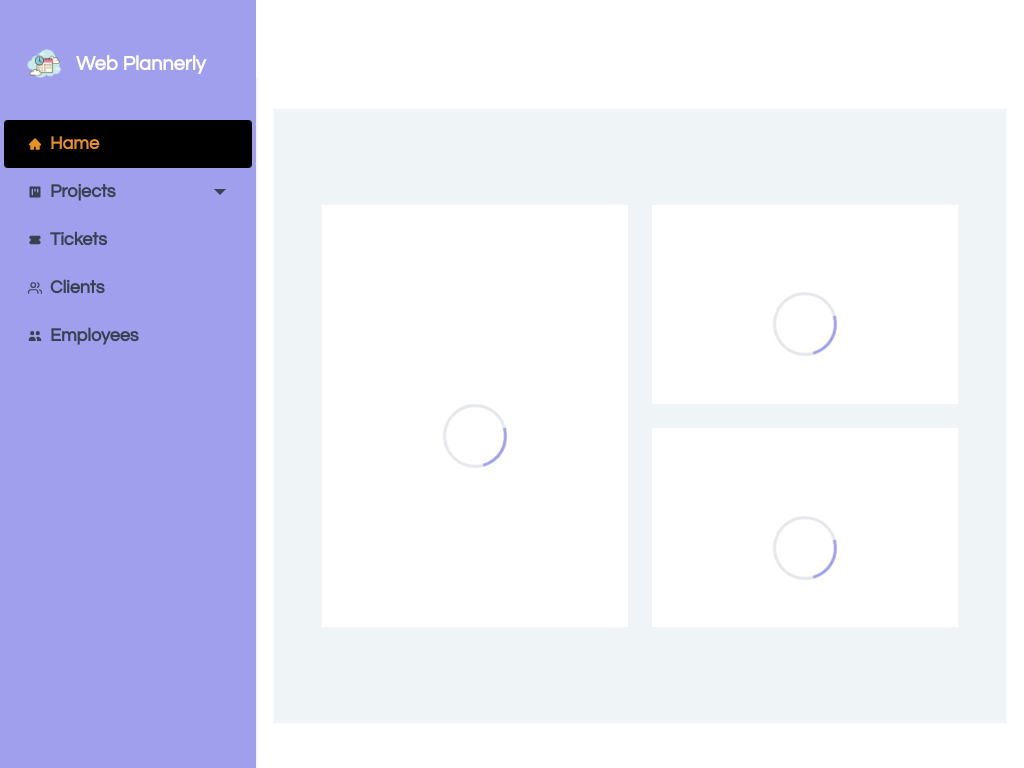
Navigation › should verify employee page with header Employees and url employees
What coordinates should you click on to do the following:
click the link "employees"
I would click on:
 (83, 336)
Its box is [28,326,138,345].
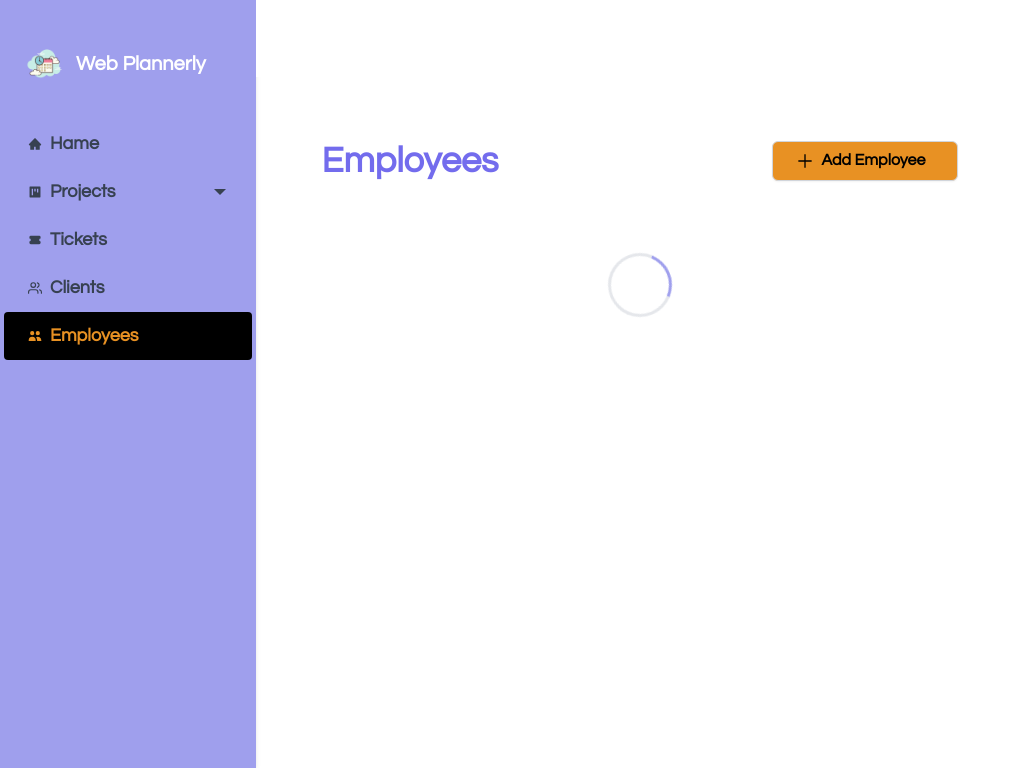
Expected: the heading "Employees" is shown, [322,141,498,181]
